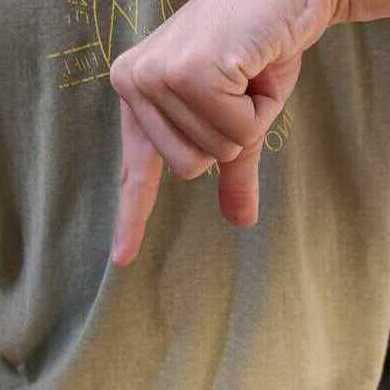Q: (108, 1, 336, 271)
